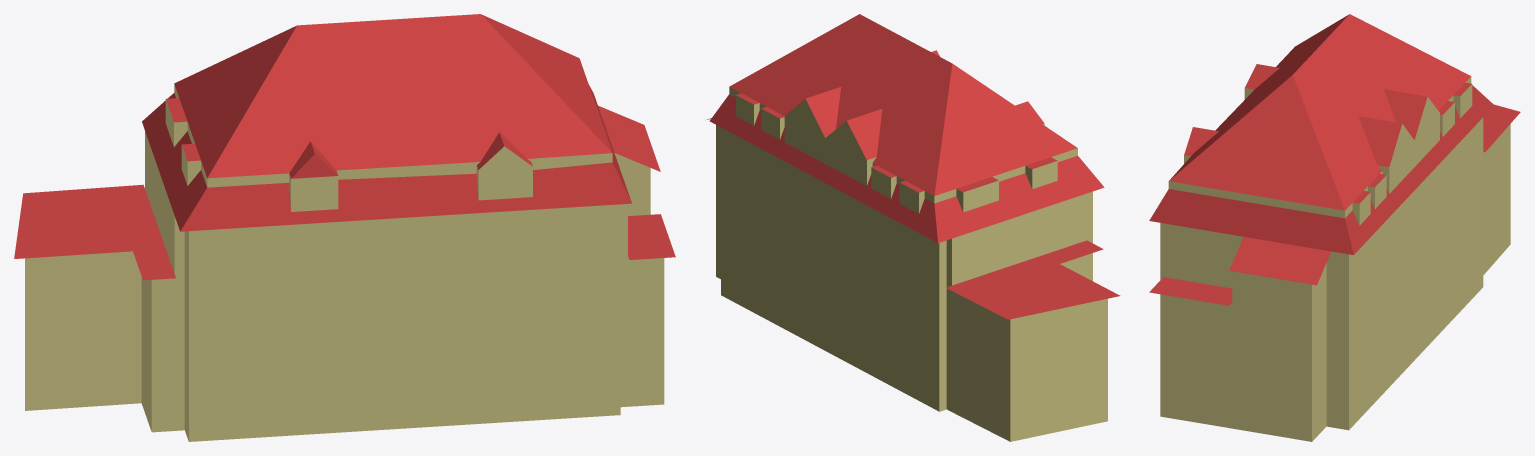
The picture shows the model from 3 angles, left to right: view 1: azimuth 30°, elevation 25°; view 2: azimuth 150°, elevation 25°; view 3: azimuth 270°, elevation 25°; orthographic projection. The views are drawn at different scales.
Parts seen in each view (by area): view 1: group_13, group_8, group_21, group_3, group_19, group_17, group_9, group_12, group_11, group_15, group_5, group_4; view 2: group_13, group_8, group_21, group_3, group_19, group_9, group_7, group_6, group_20; view 3: group_13, group_8, group_3, group_17, group_21, group_9, group_6, group_7, group_15, group_19, group_10, group_4 (+1 smaller).
Part boxes in pixels (bbox=[...]): group_13: bbox=[145, 131, 650, 441]; group_8: bbox=[166, 14, 612, 178]; group_21: bbox=[25, 251, 174, 432]; group_3: bbox=[142, 85, 660, 231]; group_19: bbox=[14, 184, 175, 280]; group_17: bbox=[628, 257, 664, 406]; group_9: bbox=[165, 84, 612, 187]; group_12: bbox=[145, 107, 659, 231]; group_11: bbox=[476, 146, 532, 200]; group_15: bbox=[628, 214, 675, 259]; group_5: bbox=[289, 174, 338, 211]; group_4: bbox=[289, 141, 338, 178]; group_13: bbox=[716, 125, 1092, 411]; group_8: bbox=[729, 14, 1077, 195]; group_21: bbox=[952, 253, 1107, 441]; group_3: bbox=[706, 94, 1104, 242]; group_19: bbox=[946, 240, 1120, 319]; group_9: bbox=[729, 87, 1077, 213]; group_7: bbox=[784, 99, 876, 185]; group_6: bbox=[806, 87, 882, 159]; group_20: bbox=[948, 241, 1116, 318]; group_13: bbox=[1160, 117, 1483, 441]; group_8: bbox=[1169, 14, 1471, 210]; group_3: bbox=[1149, 85, 1494, 285]; group_17: bbox=[1160, 294, 1232, 428]; group_21: bbox=[1382, 124, 1510, 274]; group_9: bbox=[1168, 76, 1472, 225]; group_6: bbox=[1358, 89, 1427, 166]; group_7: bbox=[1378, 97, 1439, 193]; group_15: bbox=[1149, 277, 1232, 305]; group_19: bbox=[1483, 104, 1520, 152]; group_10: bbox=[1184, 127, 1218, 156]; group_4: bbox=[1245, 64, 1279, 89].
Bounding box in the file's own units: 32.28 × 21.69 × 19.25.
